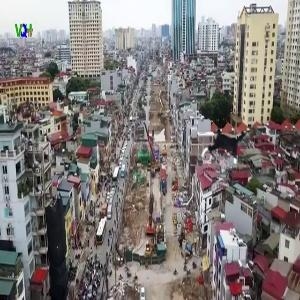drone: (199, 120, 256, 177)
